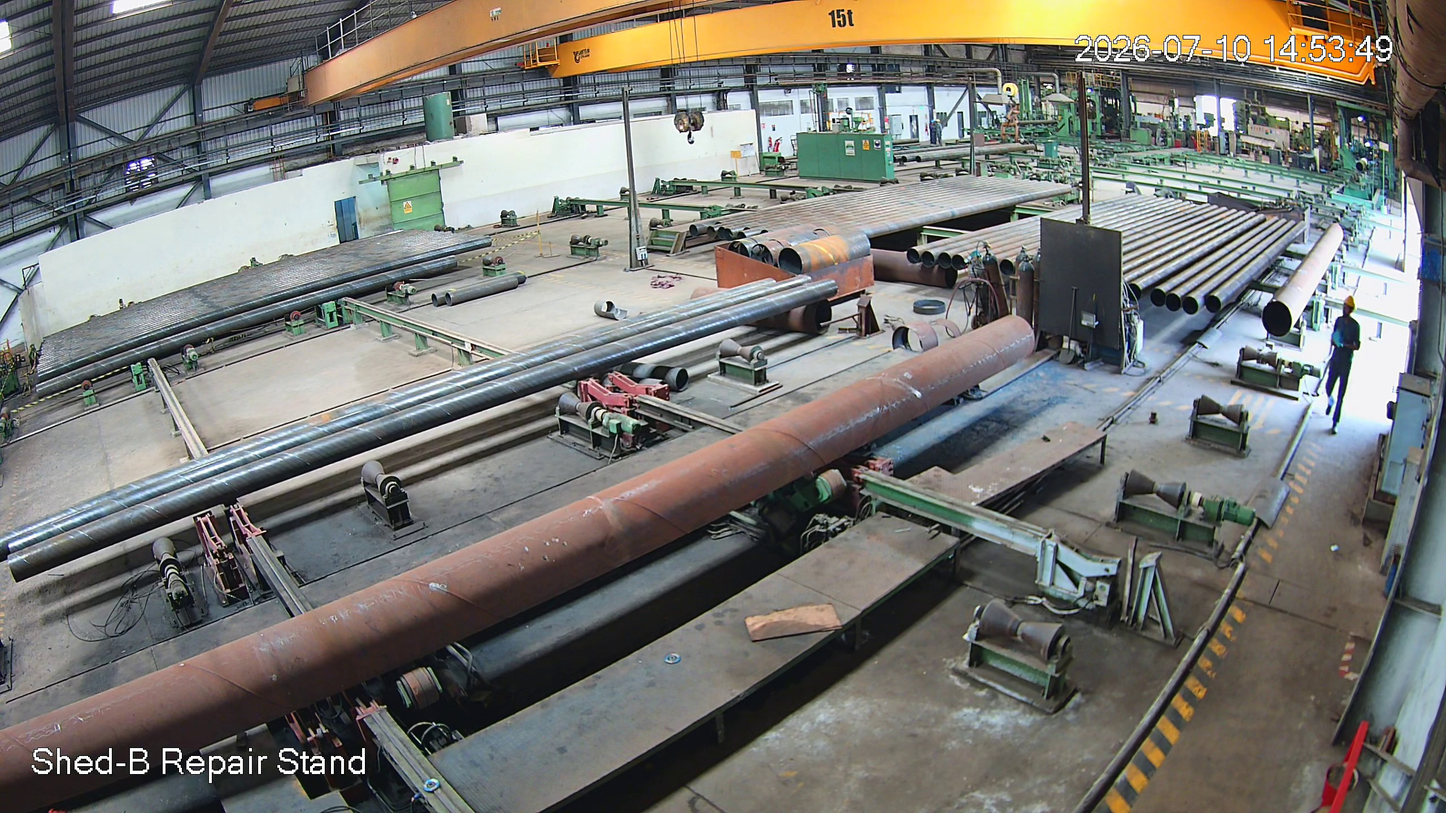Helmet: (1337, 292, 1370, 326)
Person: (1320, 295, 1364, 441)
